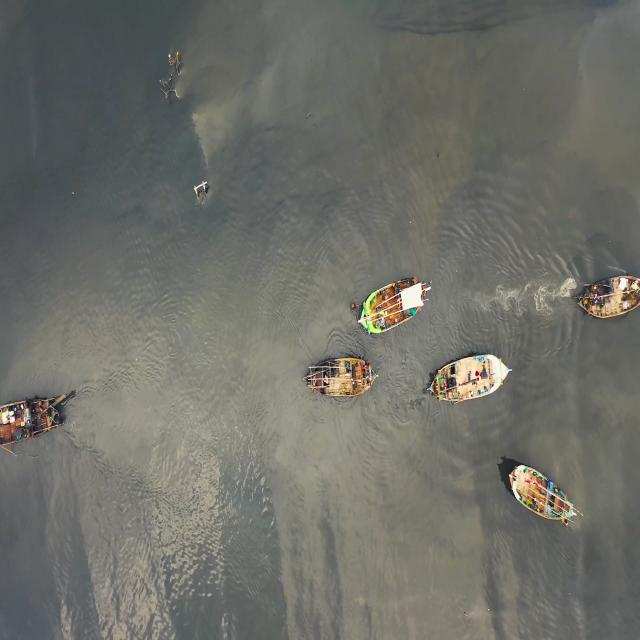ship: (510, 452, 583, 536), (421, 350, 519, 404), (358, 267, 433, 336), (305, 348, 381, 398), (2, 390, 75, 435), (581, 271, 635, 322)
